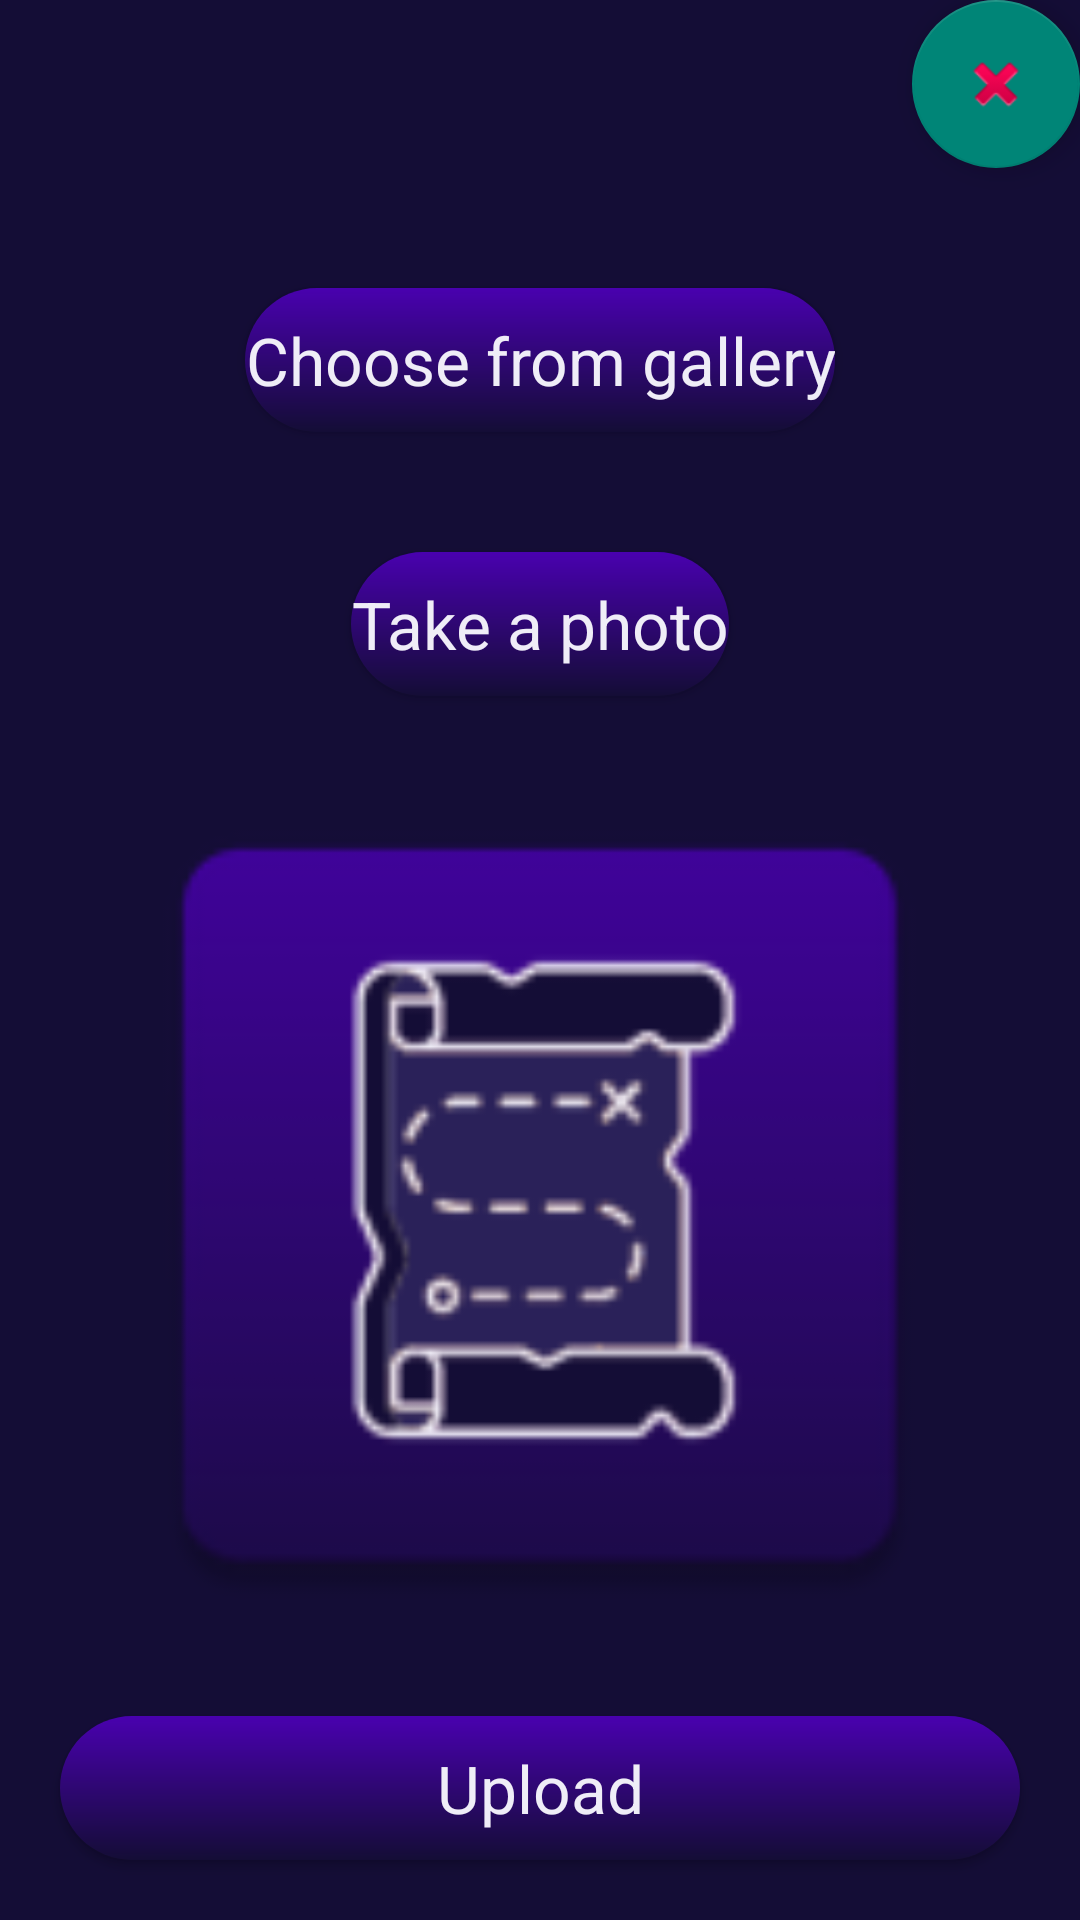

Icons on this 1080 x 1920 Android screen, each with its box as (x1, y1, x2, y2):
delete: (912, 0, 1080, 168)
